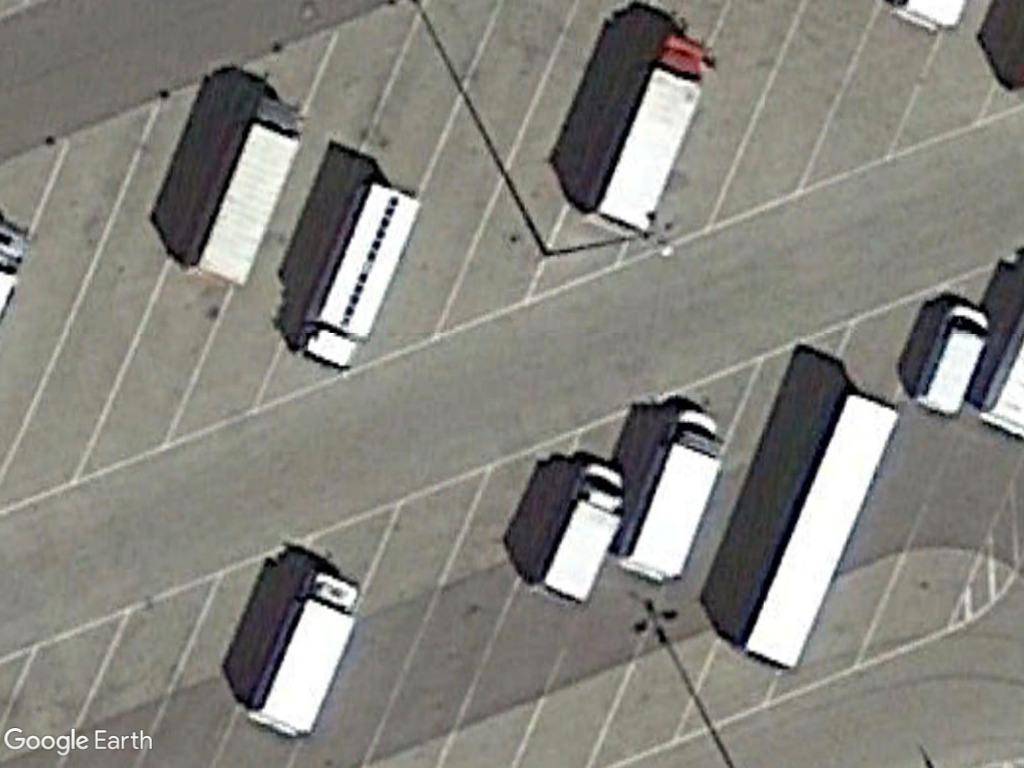longvehicle: (740, 390, 903, 677)
truck: (587, 33, 717, 242), (179, 93, 314, 294), (295, 176, 426, 376), (244, 566, 363, 736), (611, 408, 728, 579), (530, 454, 628, 605)
van: (910, 301, 992, 424)
